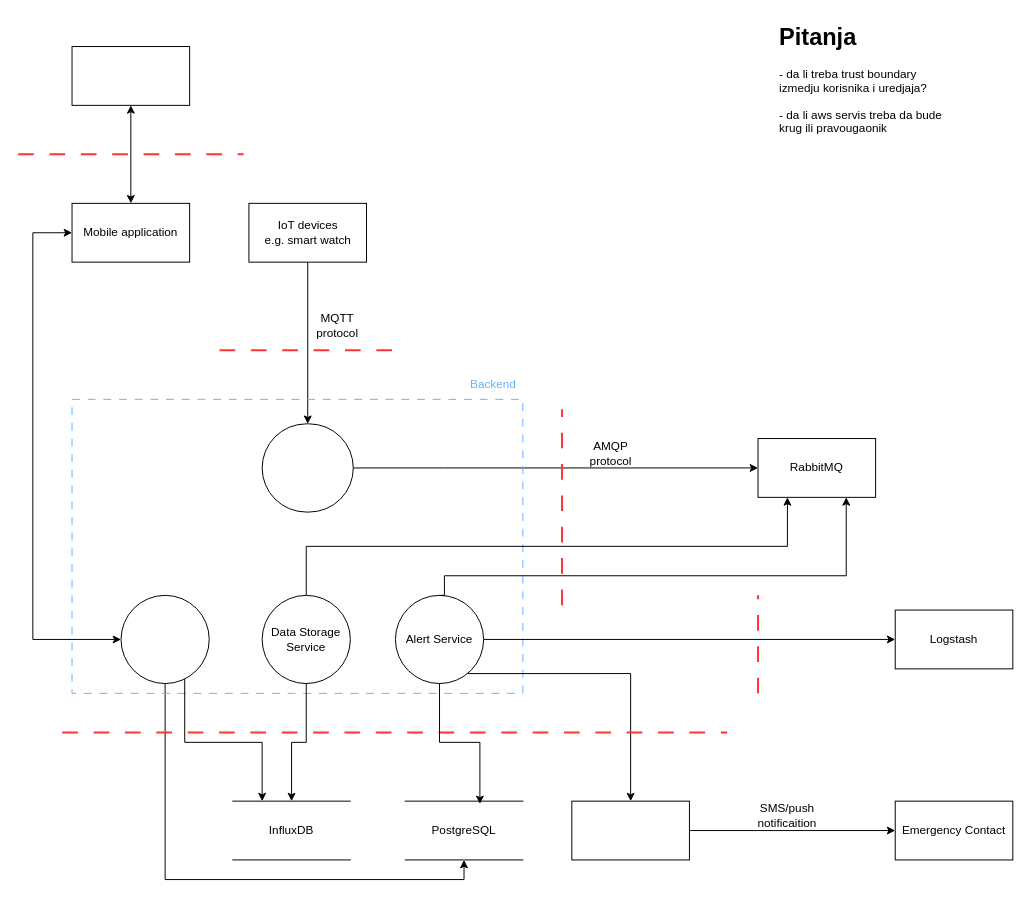
Some shapes in this 1030 by 905 pixel diagram are drawn without their labels. The centre of each missing label's shape, as x and y in pixels:
AWS Simple Notification Service: point 630,830
Data Visualization Service: point 164,639
Processing Service: point 307,467
User: point 130,75
